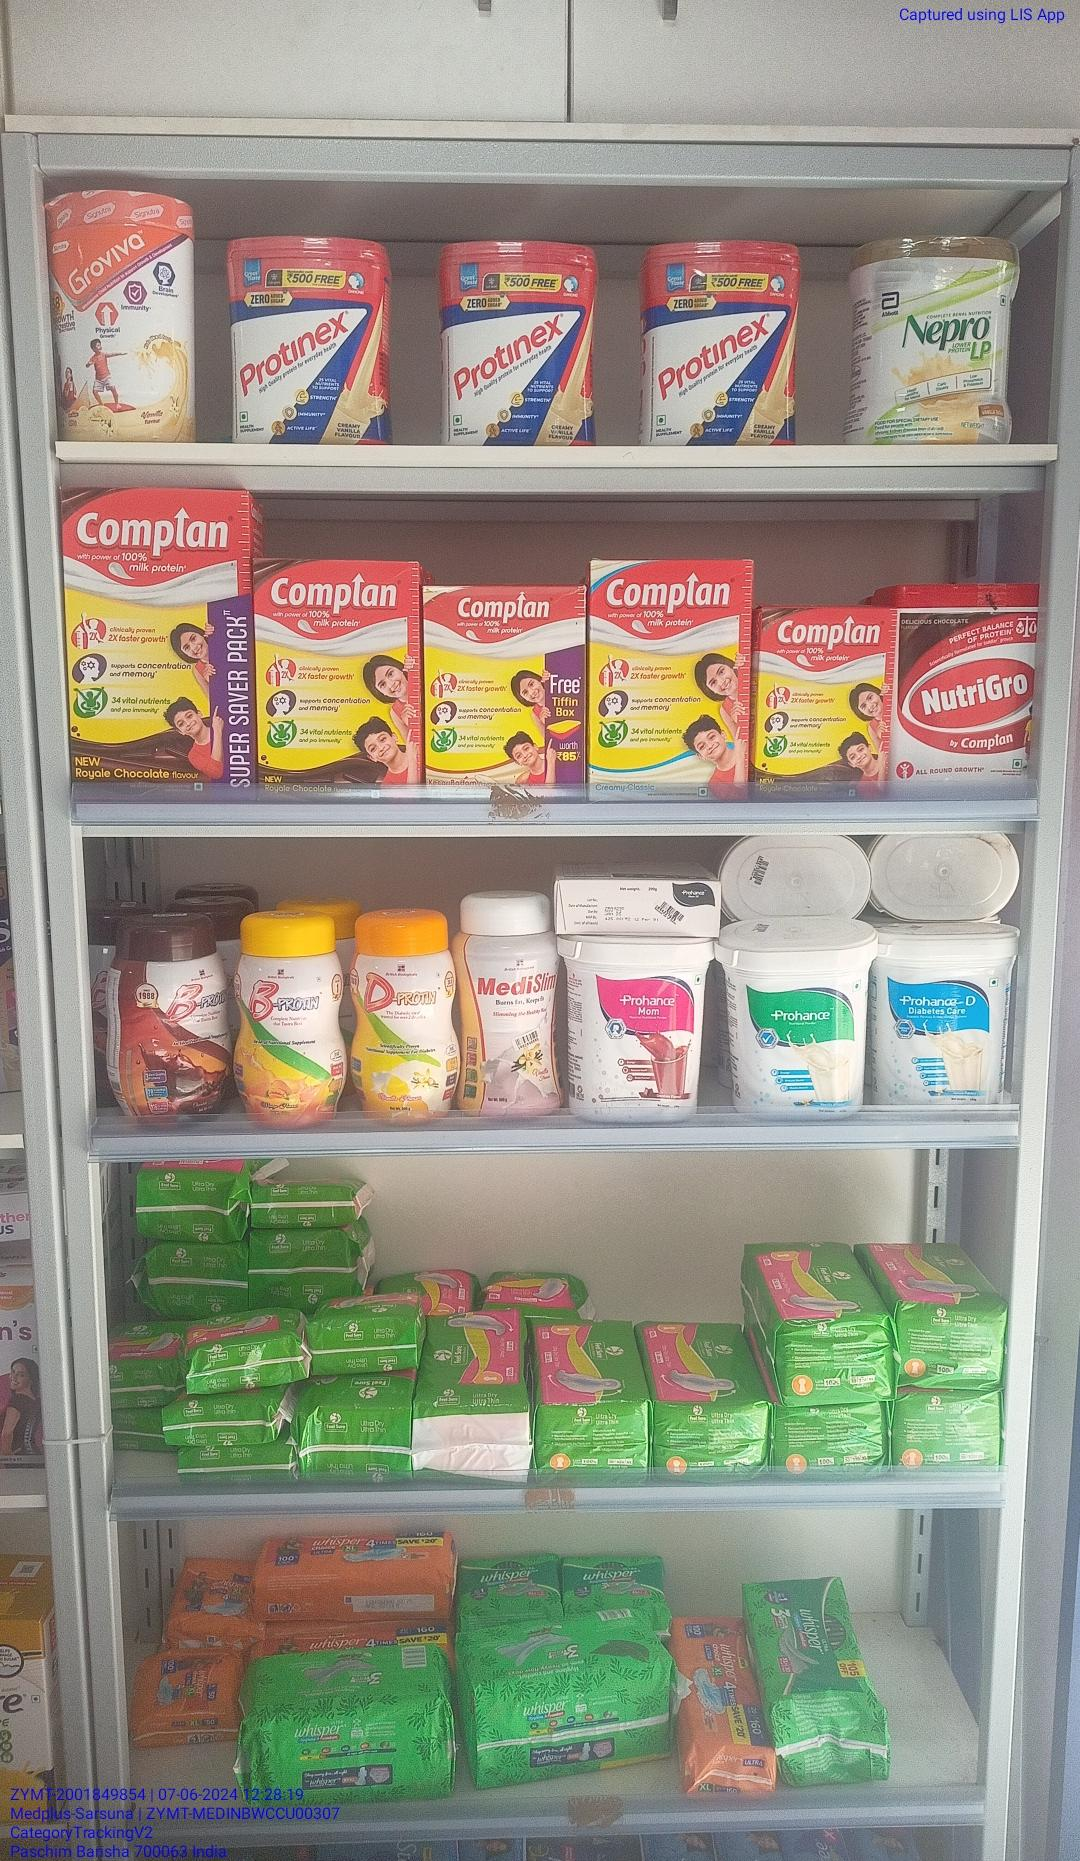PROTINEX_VANILLA_400_G_JAR: (642, 239, 804, 455), (234, 240, 382, 436), (445, 247, 591, 441)
